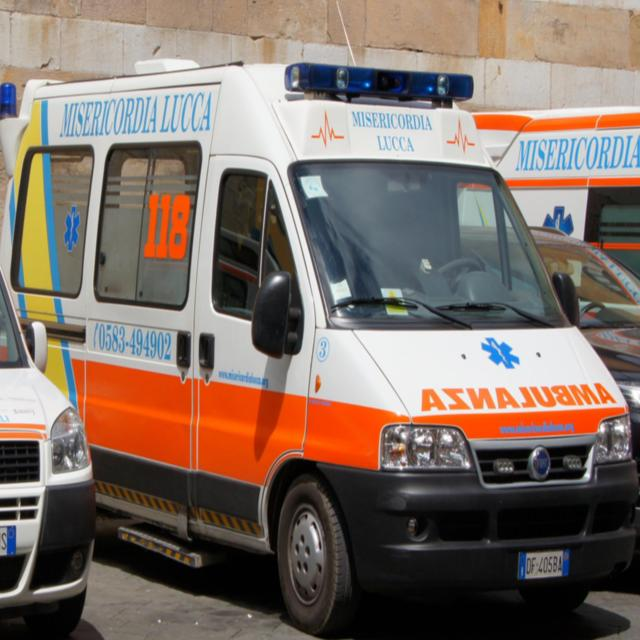emergency-vehicle: (1, 58, 637, 634)
